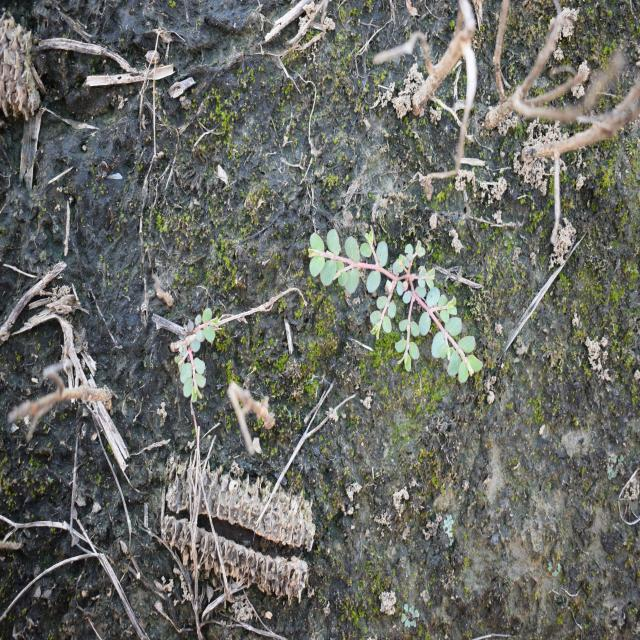SpottedSpurge: (306, 224, 485, 388), (172, 307, 222, 406)
